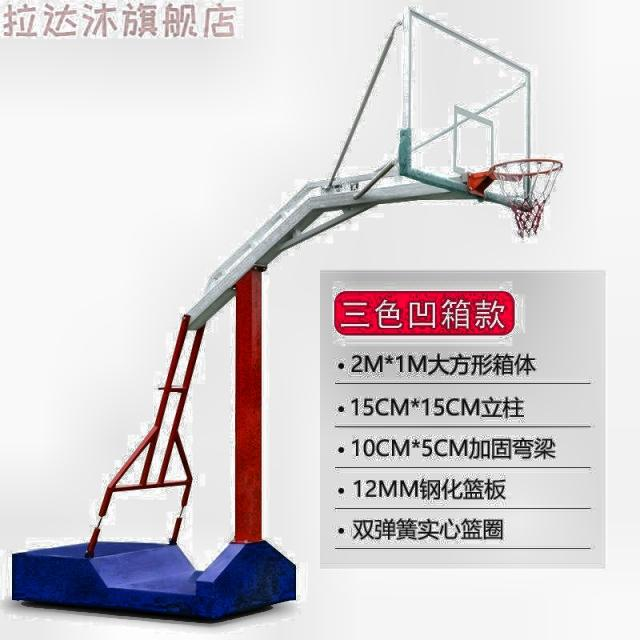rim: (492, 156, 562, 233)
